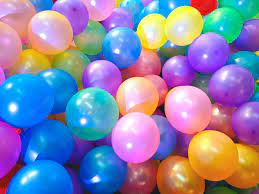Balloon: (1, 75, 54, 129), (66, 88, 119, 141), (188, 129, 238, 181), (19, 119, 75, 164), (111, 112, 160, 163), (6, 159, 73, 194), (80, 146, 127, 194), (165, 86, 210, 133), (27, 11, 73, 54), (157, 154, 206, 194), (208, 65, 255, 105), (189, 32, 230, 73), (102, 26, 141, 67), (118, 77, 158, 115), (165, 6, 201, 42), (83, 59, 120, 93), (232, 102, 259, 146), (204, 7, 241, 39), (137, 13, 167, 48), (1, 21, 22, 67), (164, 55, 196, 85)
